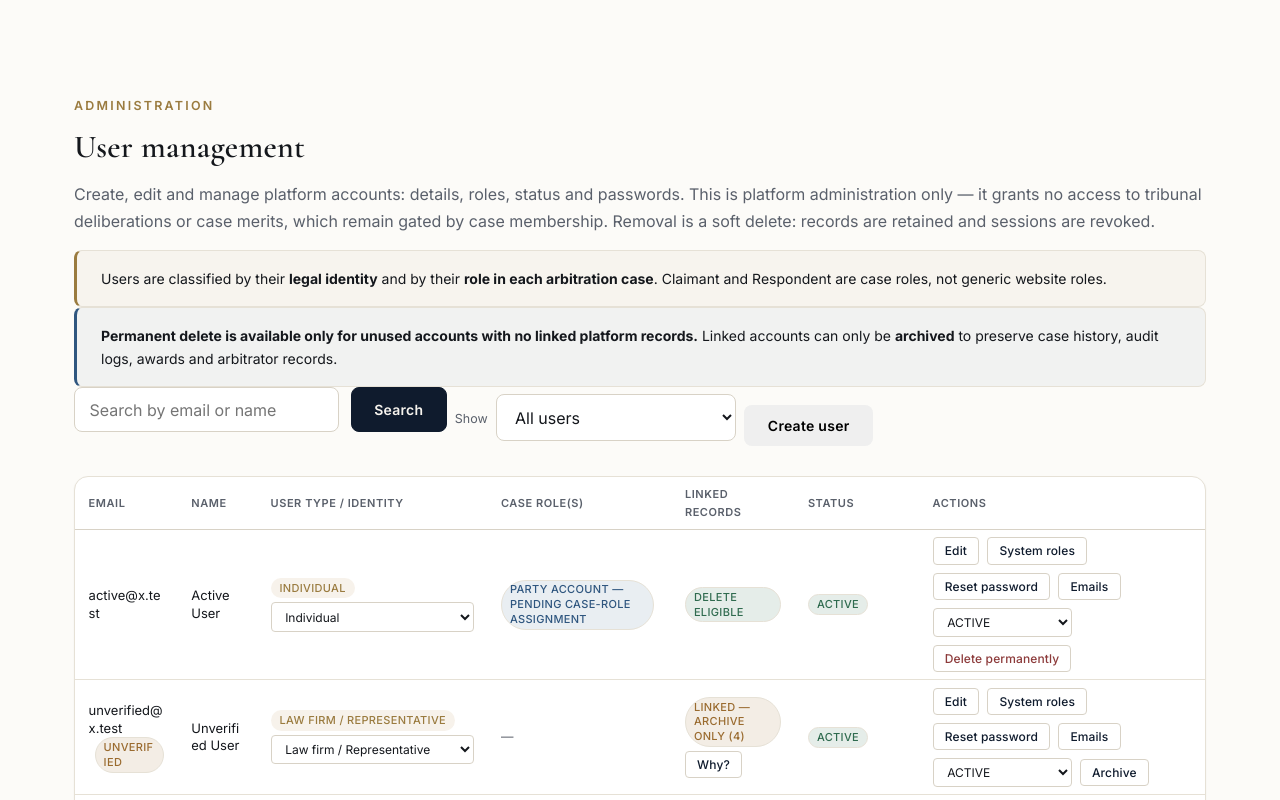
Test: AdminUsers — delete-eligibility clarity › filters to linked users only
Expected: the text "active@x.test" is shown, [75, 530, 178, 680]
Select "Linked (archive only)" in the dropdown named "Filter users" at (616, 418), box [496, 394, 736, 441]
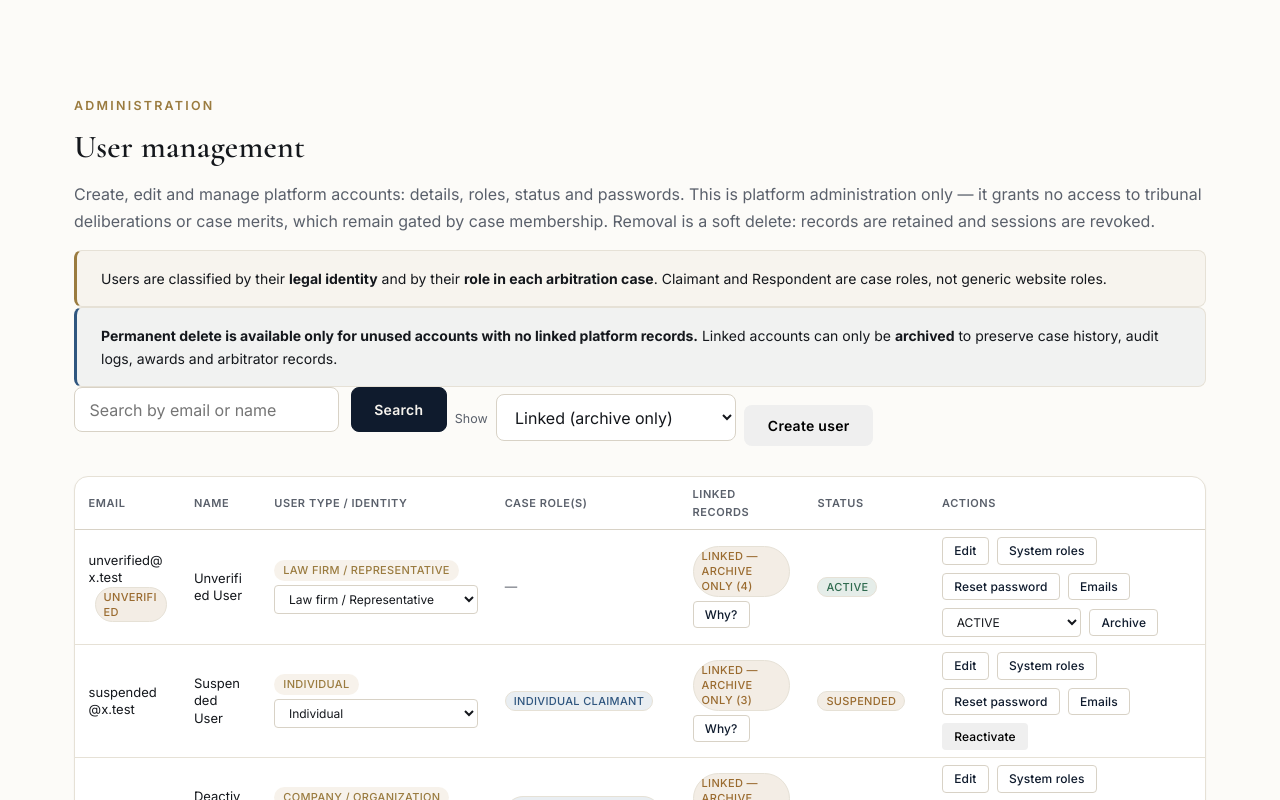
Expected: the text "unverified@x.test" is shown, [89, 552, 163, 585]
Result: the text "active@x.test" is gone
